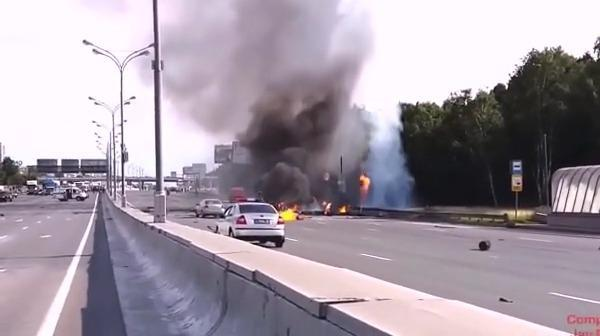fire: (318, 198, 351, 215), (279, 202, 306, 221), (356, 172, 372, 197)
